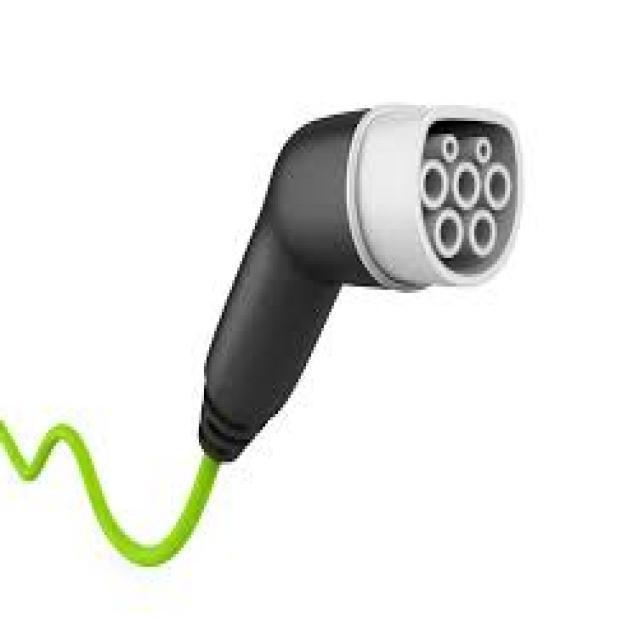Type 2: (359, 90, 543, 313)
